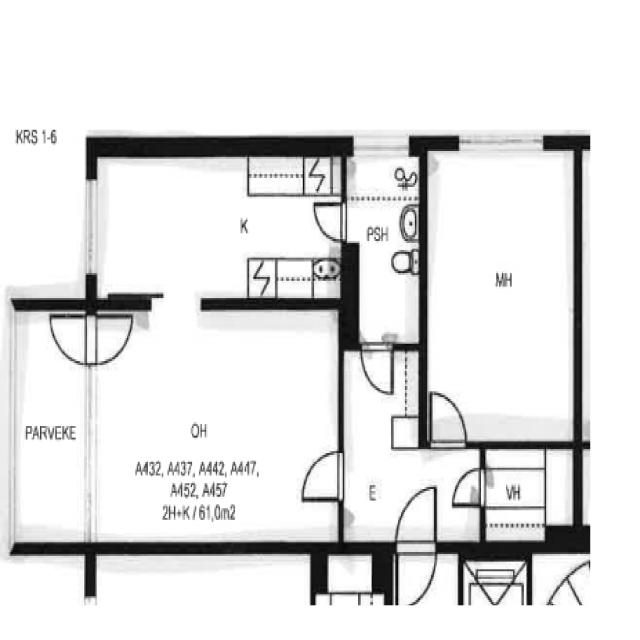door: (87, 303, 346, 548), (392, 480, 442, 609), (434, 414, 484, 518), (63, 309, 137, 368), (294, 443, 352, 507), (422, 385, 474, 455), (356, 336, 396, 400), (309, 194, 352, 246), (448, 462, 490, 514)
window: (452, 122, 551, 162), (79, 171, 102, 286), (346, 125, 416, 160)
zone: (92, 299, 345, 545), (424, 145, 579, 449), (96, 154, 359, 304), (348, 148, 422, 347), (479, 444, 578, 546), (46, 309, 136, 368)
